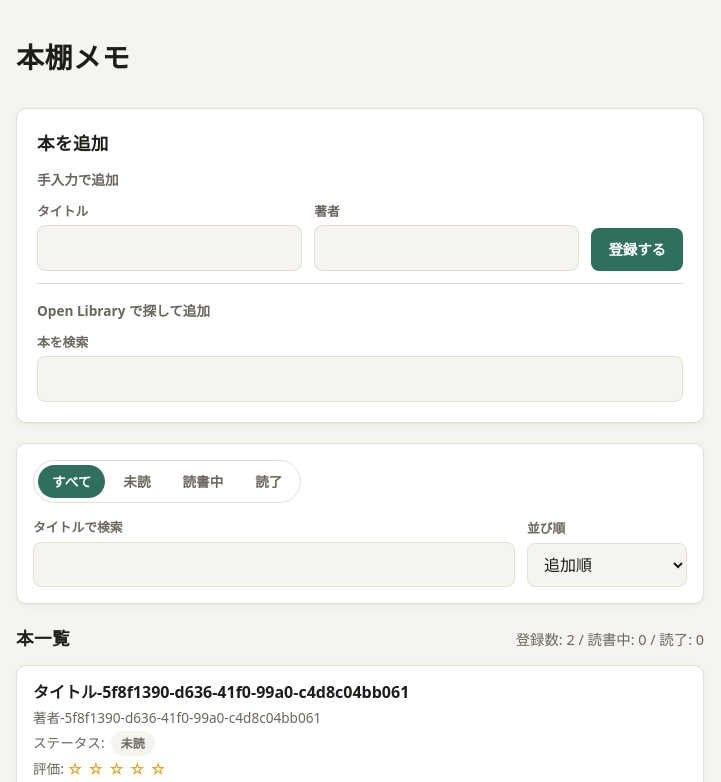
App › 本のステータスを更新できる
Click the 2nd button "未読" at [133, 744], box [111, 731, 155, 756]
(page scrolled)
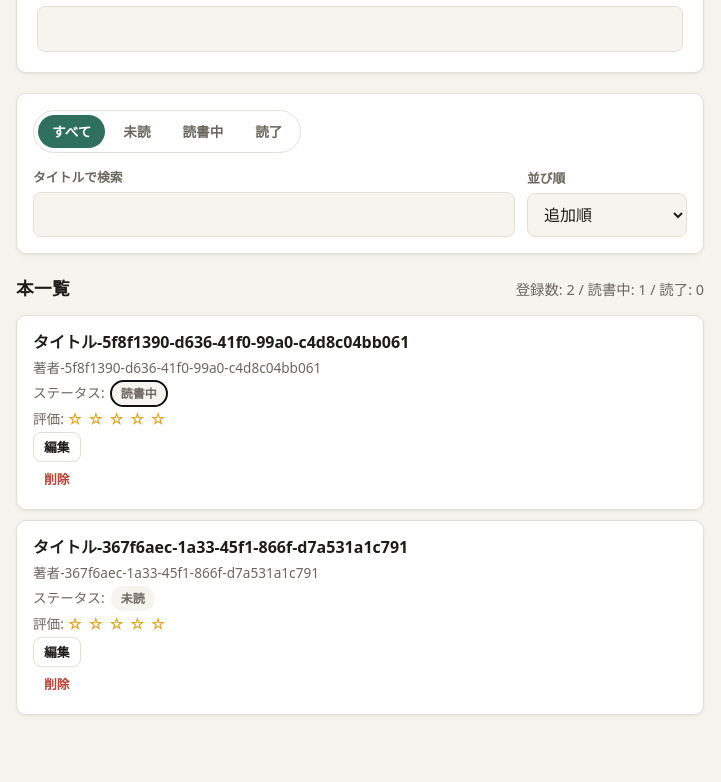
Expected: the 2nd button "未読" is shown, [111, 586, 155, 611]
Result: the 2nd button "読書中" is shown at [111, 381, 167, 406]
